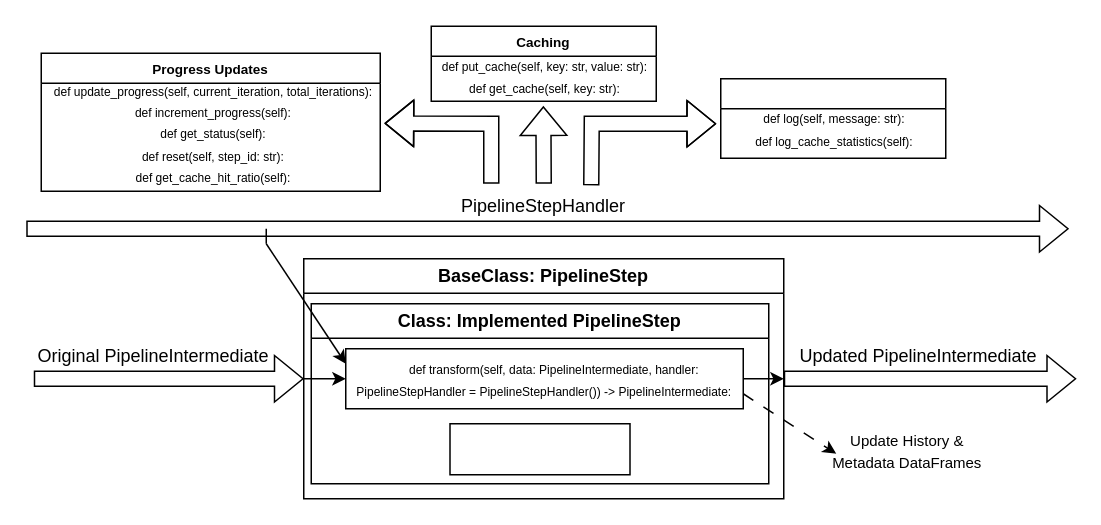
This 1101x525 diagram has some shape labels left out. Each missing label, with the box of its shape:
def get_info() -> dict: def get_name() -> str:: (448, 422, 630, 475)
Logging: (719, 77, 946, 158)
